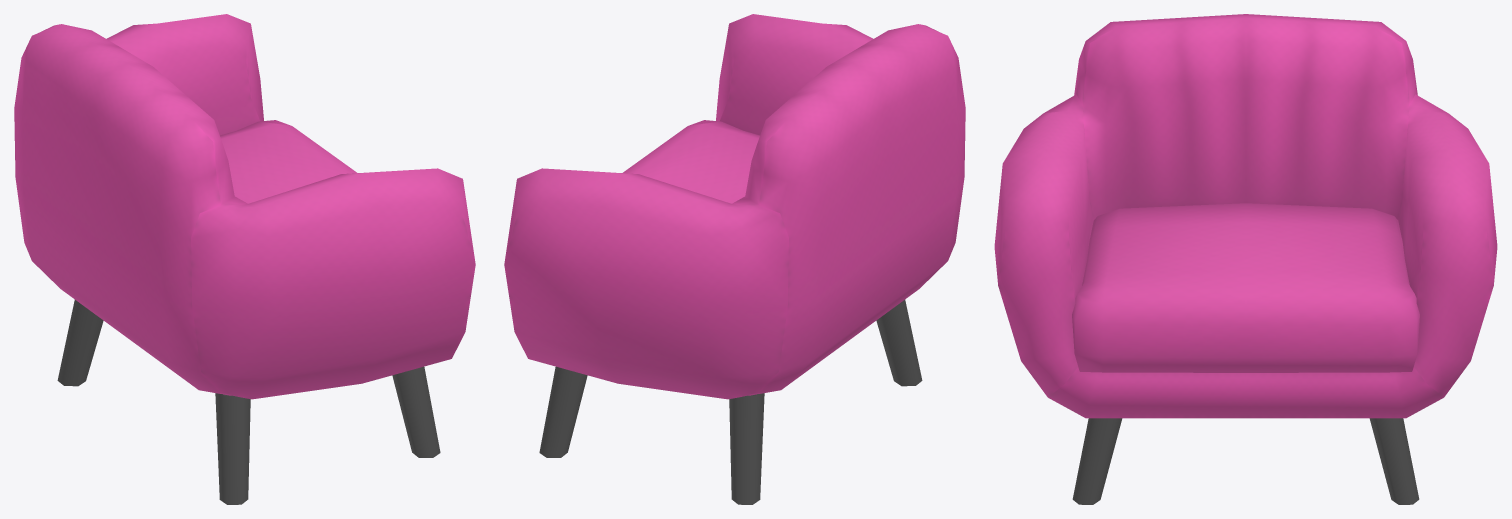
File: armchairpink.glb
3 views of the same model, side by side, from view 1: azimuth 30°, elevation 25°; view 2: azimuth 150°, elevation 25°; view 3: azimuth 270°, elevation 25° (orthographic).
Parts seen in each view (by area): view 1: Object_18.007; view 2: Object_18.007; view 3: Object_18.007.
Part boxes in pixels (x1,y1,x2,y2): Object_18.007: [14, 14, 475, 504]; Object_18.007: [504, 14, 965, 504]; Object_18.007: [994, 14, 1497, 504].
Bounding box in the file's own units: 0.6581 × 0.8518 × 1.03.
Materials: 1 (1 with a texture image).
